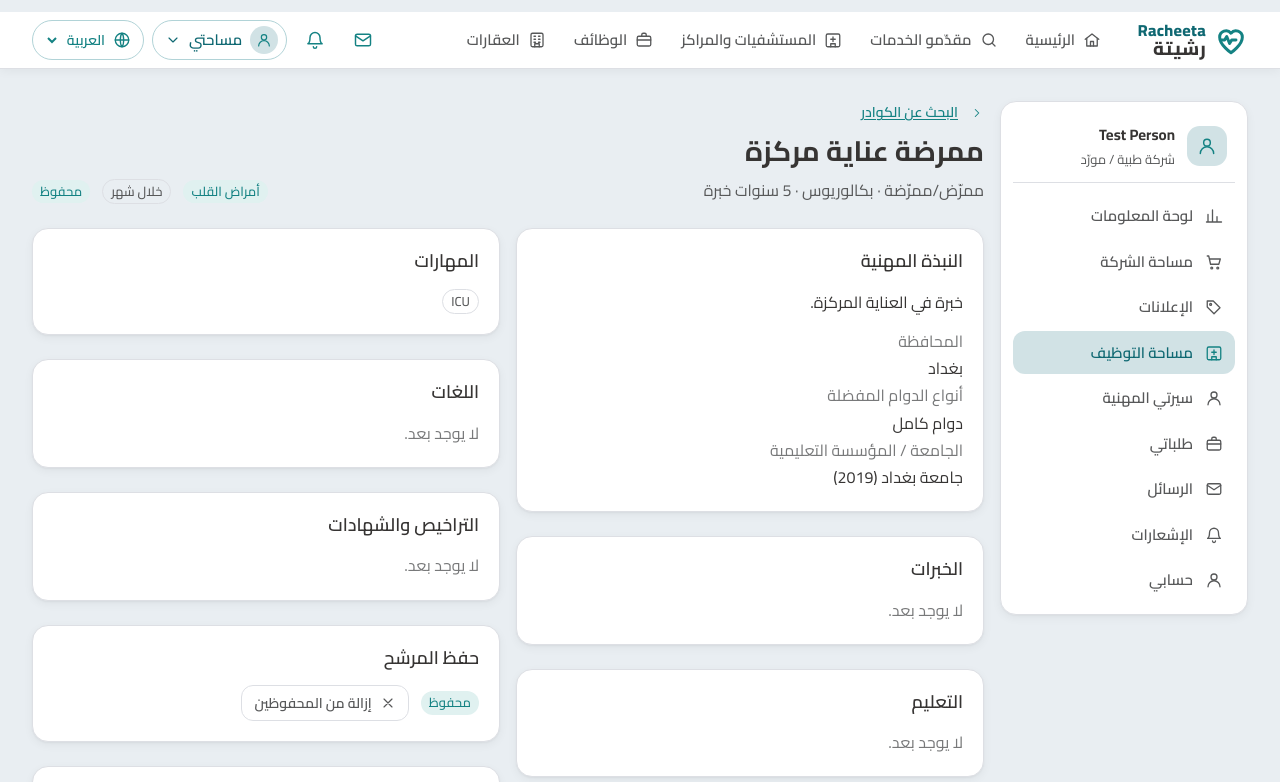
Scenario: Talent search › save and unsave › keeps the saved state and shows the error when removal fails
The width and height of the screenshot is (1280, 782).
Click the button "إزالة من المحفوظين" at (325, 703), box [241,685,409,721]
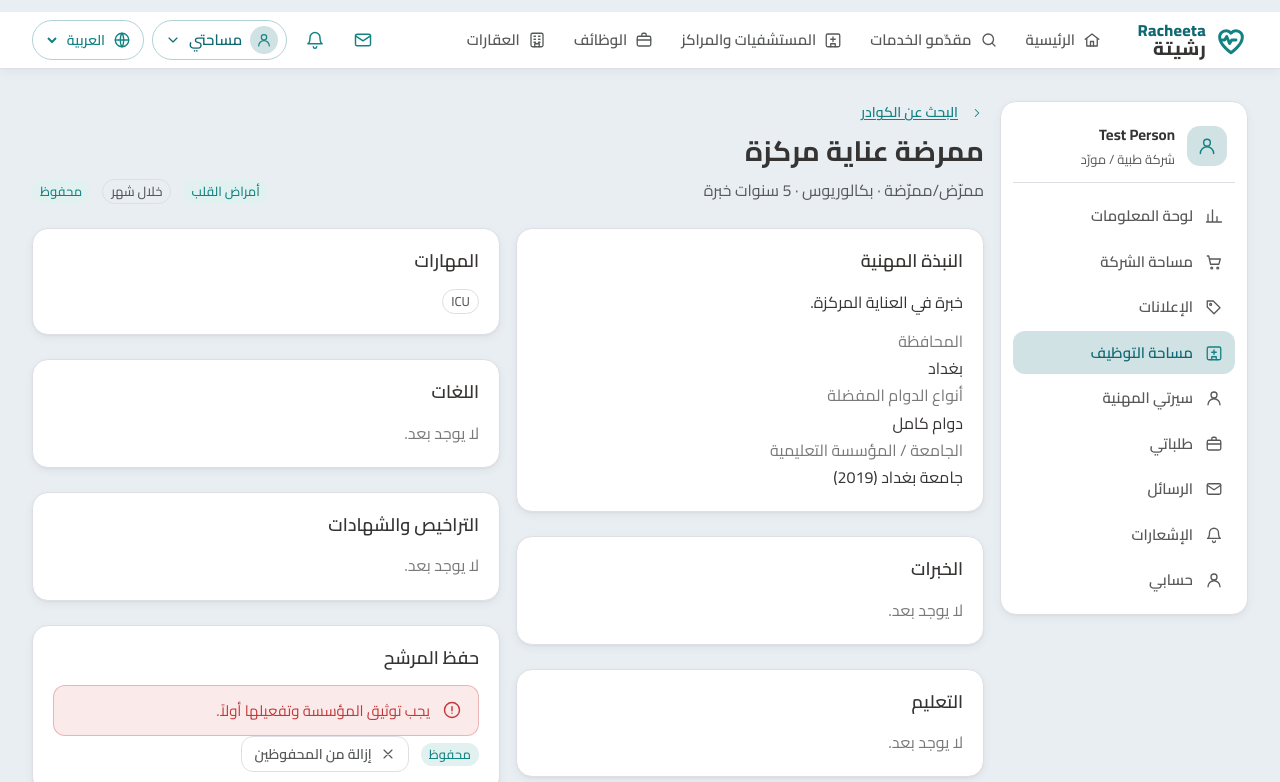
Expected: the button "إزالة من المحفوظين" is enabled, [241,736,409,772]
Now the message reads "يجب توثيق المؤسسة وتفعيلها أولاً.", box [216,696,430,725]
